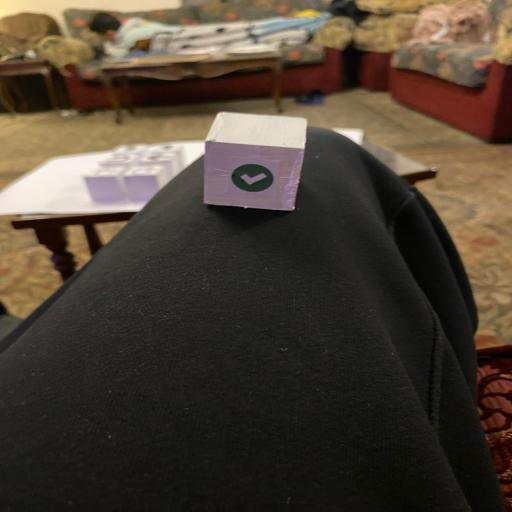Confirm: (202, 111, 308, 212)
